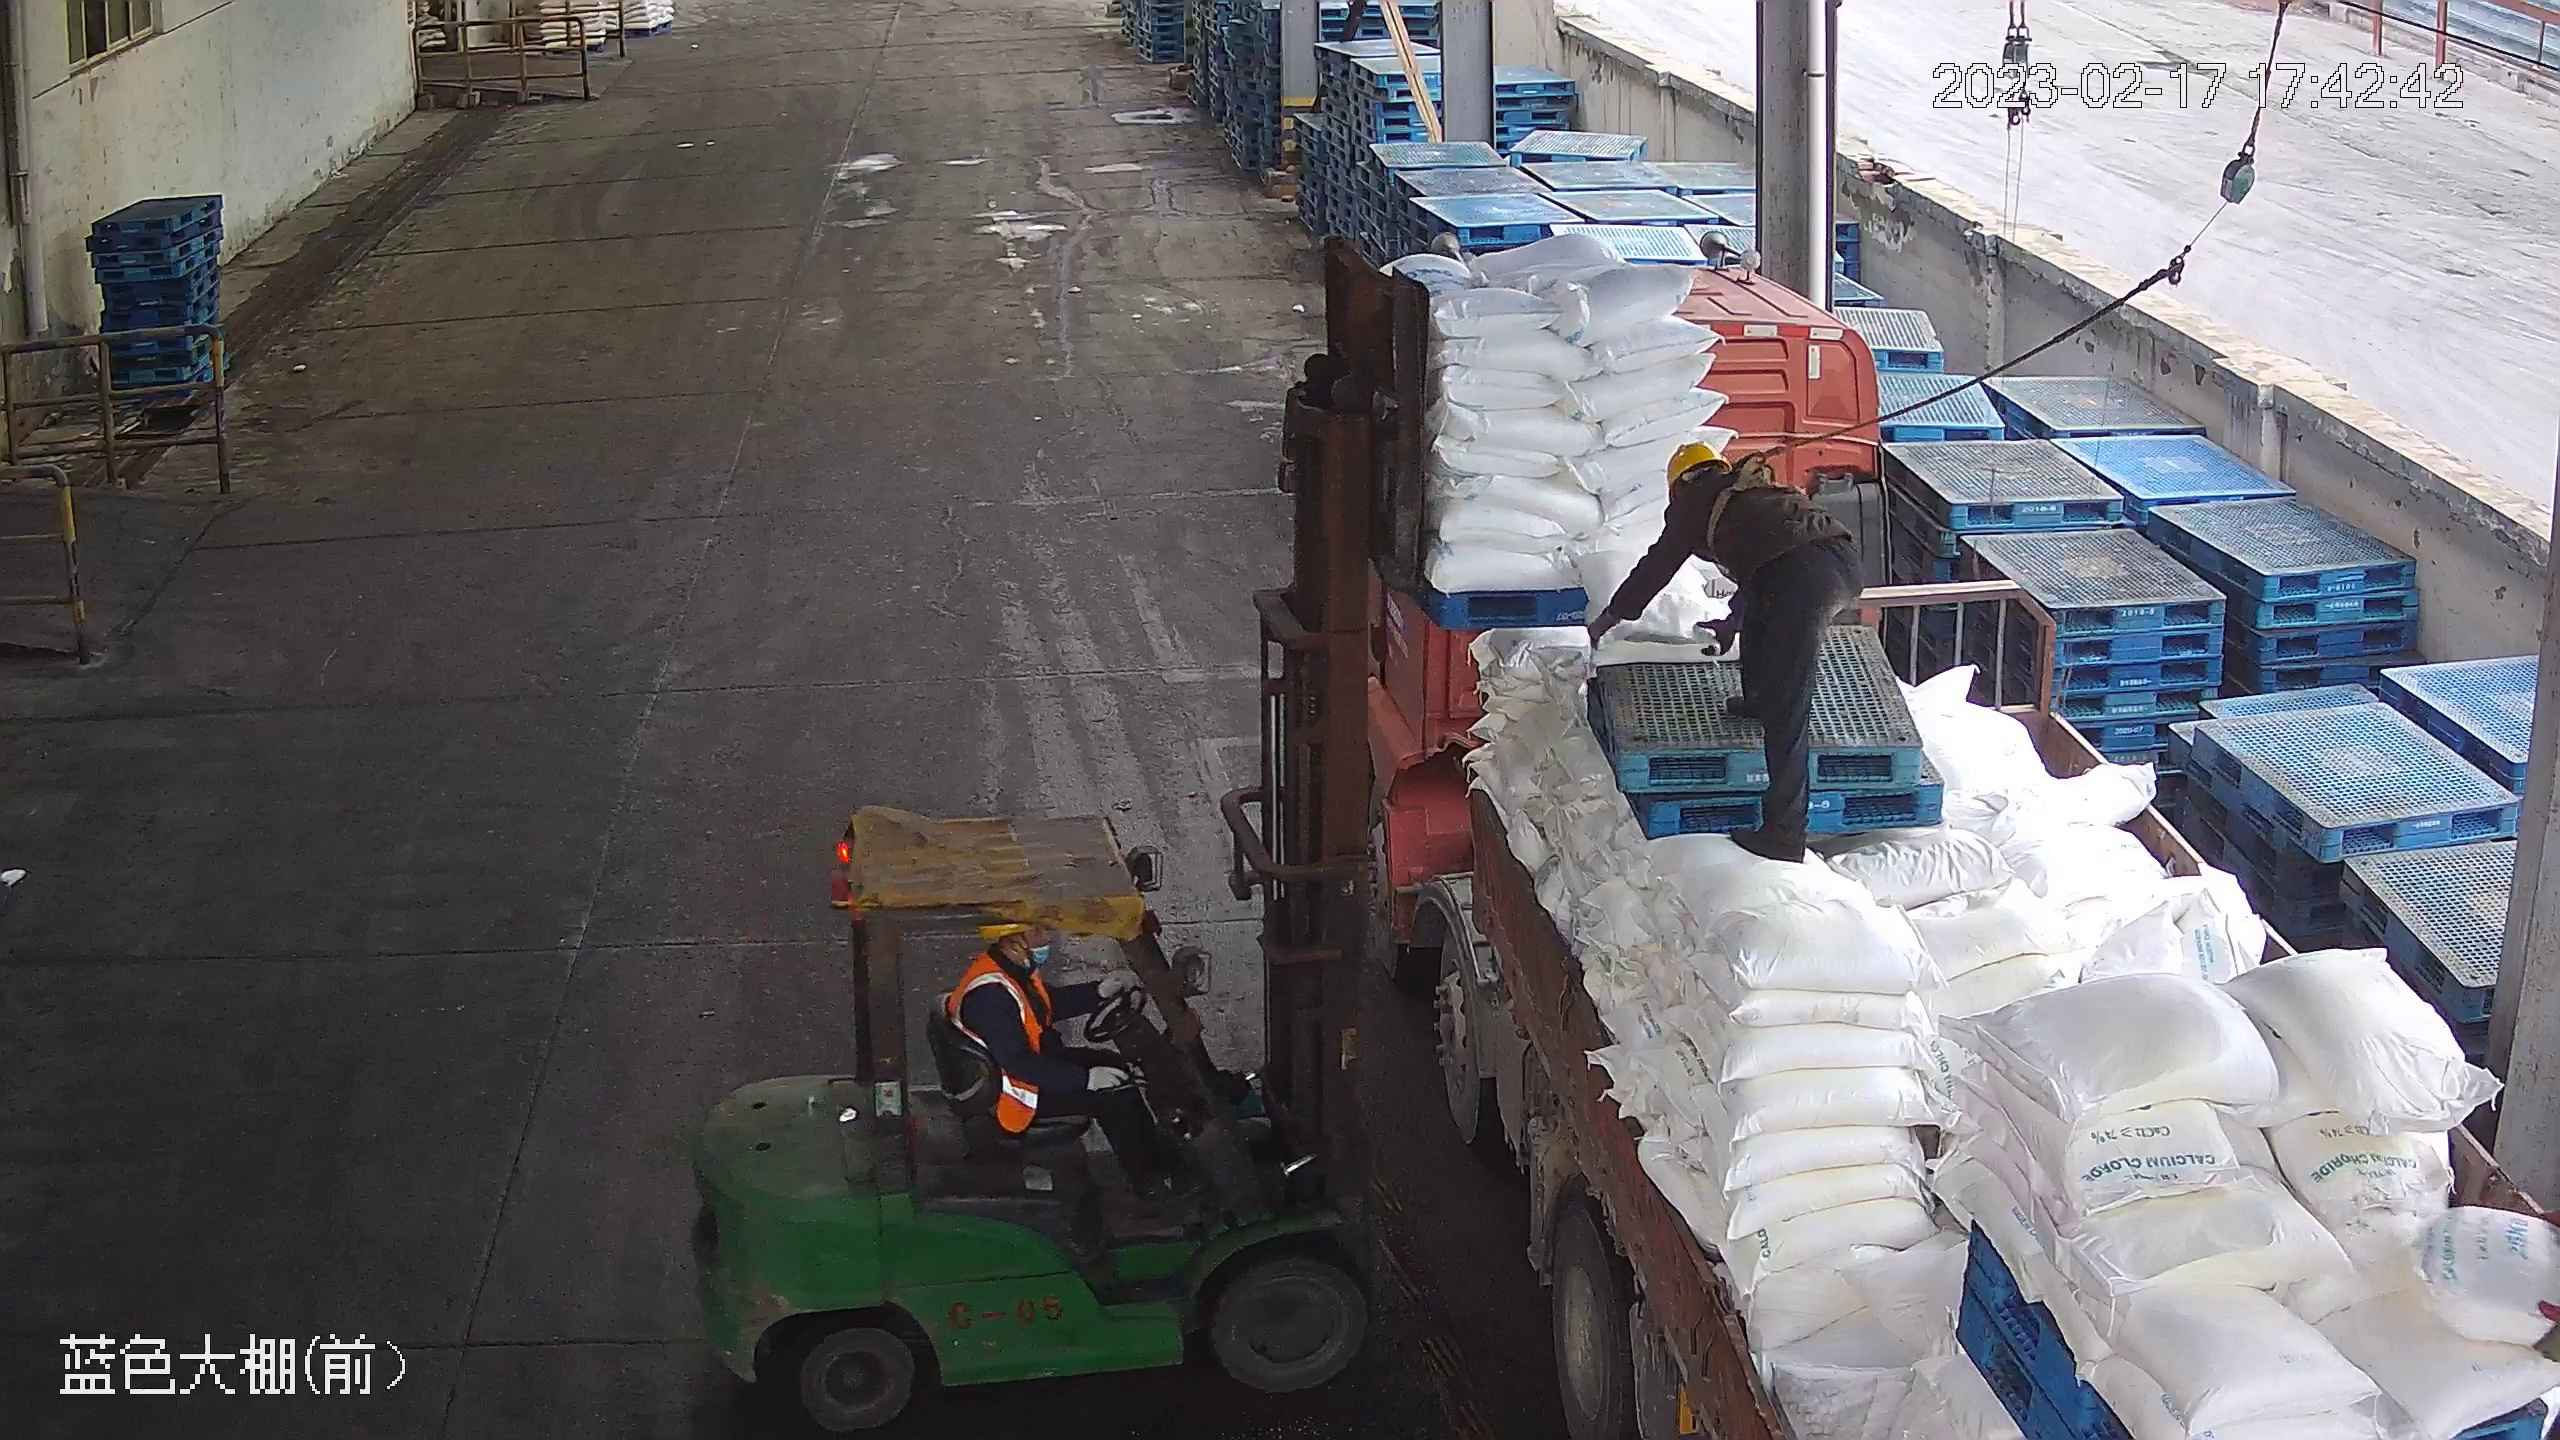belt: (1704, 452, 1800, 553)
head: (949, 923, 1087, 1047), (1658, 436, 1774, 547)
helmet: (1665, 443, 1730, 490)
people: (1584, 435, 1867, 864), (942, 923, 1206, 1218)
truck: (1217, 245, 2560, 1440)
